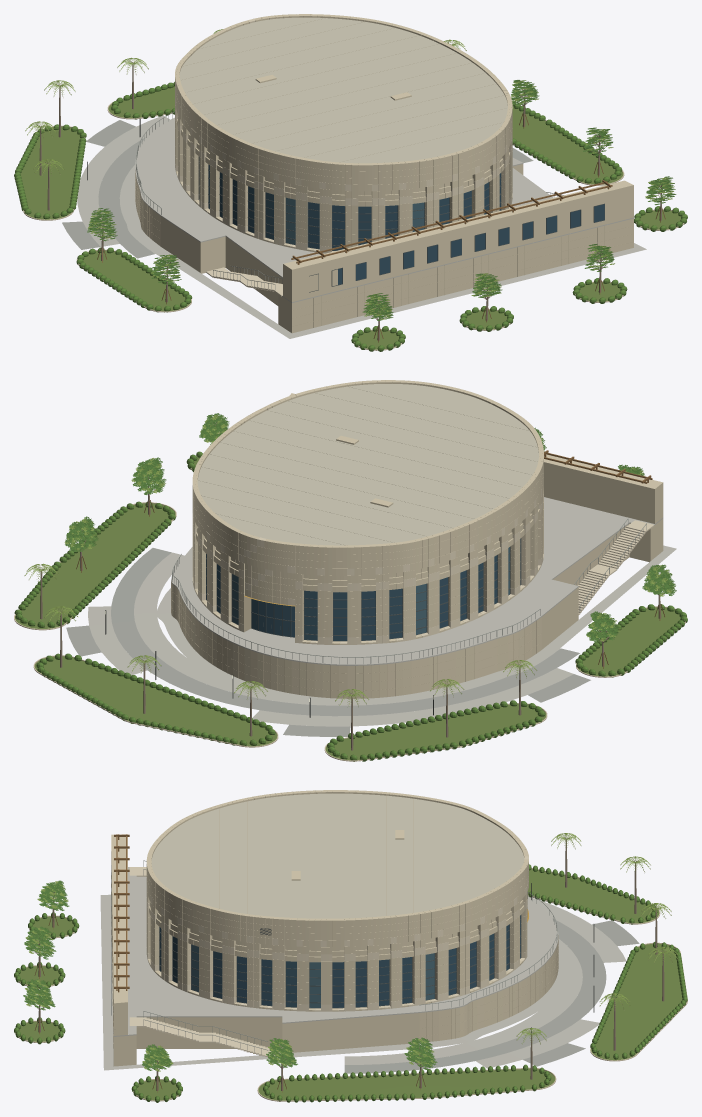
File: hall-lod0.glb
3 views of the same model, one above another, from view 1: azimuth 30°, elevation 25°; view 2: azimuth 150°, elevation 25°; view 3: azimuth 270°, elevation 25° (orthographic). The views are drawn at different scales.
Parts seen in each view (by area): view 1: oval roof membrane | roof, jointed pale stone facade | limestone, curved podium and terrace | limestone, connected planted lawns | lawn, rear support wing | limestone, podium terrace paving | pale paving, continuous low hedges | hedge, deep recessed glazing | blue glazing, layered leaf canopy | leaf shadow, site perimeter paving | pale paving, fan plaza paving | dark paving, jointed pale stone facade | limestone light (+11 smaller); view 2: oval roof membrane | roof, jointed pale stone facade | limestone, connected planted lawns | lawn, curved podium and terrace | limestone, podium terrace paving | pale paving, fan plaza paving | dark paving, continuous low hedges | hedge, fan plaza paving | pale paving, site perimeter paving | pale paving, rear support wing | limestone, jointed pale stone facade | limestone light, deep recessed glazing | blue glazing (+13 smaller); view 3: oval roof membrane | roof, jointed pale stone facade | limestone, connected planted lawns | lawn, curved podium and terrace | limestone, podium terrace paving | pale paving, continuous low hedges | hedge, fan plaza paving | pale paving, fan plaza paving | dark paving, deep recessed glazing | blue glazing, site perimeter paving | pale paving, jointed pale stone facade | limestone light, layered leaf canopy | leaf shadow (+10 smaller).
Boxes of the visible parts, x1,y1,x2,y2 form: oval roof membrane | roof: (179, 17, 507, 163); jointed pale stone facade | limestone: (175, 14, 512, 251); curved podium and terrace | limestone: (135, 164, 633, 333); connected planted lawns | lawn: (20, 86, 680, 349); rear support wing | limestone: (283, 180, 633, 301); podium terrace paving | pale paving: (135, 117, 633, 302); continuous low hedges | hedge: (14, 82, 687, 351); deep recessed glazing | blue glazing: (199, 157, 604, 284); layered leaf canopy | leaf shadow: (87, 80, 676, 320); site perimeter paving | pale paving: (121, 165, 646, 338); fan plaza paving | dark paving: (62, 120, 533, 258); jointed pale stone facade | limestone light: (175, 19, 512, 253); oval roof membrane | roof: (197, 384, 538, 545); jointed pale stone facade | limestone: (192, 380, 543, 644); connected planted lawns | lawn: (15, 457, 680, 760); curved podium and terrace | limestone: (171, 519, 663, 698); podium terrace paving | pale paving: (171, 497, 663, 665); fan plaza paving | dark paving: (66, 548, 590, 736); continuous low hedges | hedge: (14, 451, 687, 761); fan plaza paving | pale paving: (88, 552, 573, 726); site perimeter paving | pale paving: (156, 545, 676, 704); rear support wing | limestone: (289, 393, 663, 523); jointed pale stone facade | limestone light: (192, 489, 543, 644); deep recessed glazing | blue glazing: (206, 539, 520, 640); oval roof membrane | roof: (151, 793, 524, 918); jointed pale stone facade | limestone: (146, 790, 528, 1011); connected planted lawns | lawn: (19, 869, 686, 1100); curved podium and terrace | limestone: (111, 906, 558, 1066); podium terrace paving | pale paving: (111, 867, 558, 1036); continuous low hedges | hedge: (14, 864, 687, 1102); fan plaza paving | pale paving: (344, 896, 626, 1068); fan plaza paving | dark paving: (344, 918, 639, 1073); deep recessed glazing | blue glazing: (159, 925, 509, 1007); site perimeter paving | pale paving: (100, 894, 572, 1070); jointed pale stone facade | limestone light: (146, 856, 528, 1011); layered leaf canopy | leaf shadow: (23, 880, 437, 1070).
Bounding box in the file's own units: 85.14 × 19.94 × 97.27.
